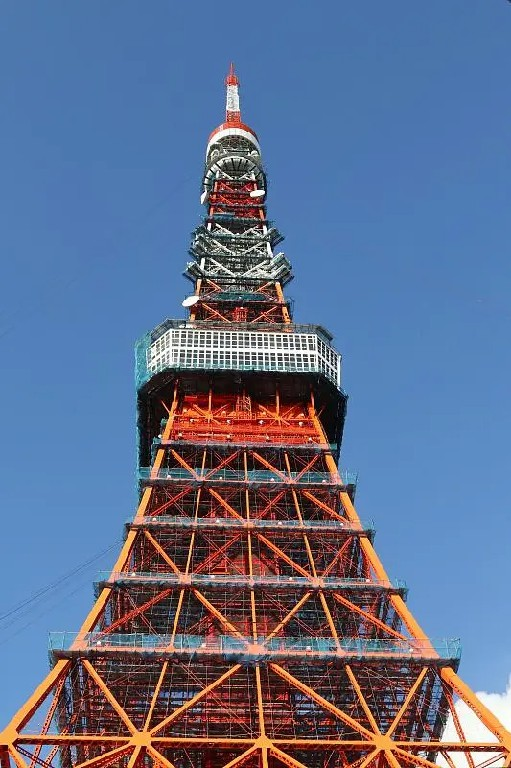Tokyo: (3, 59, 511, 766)
